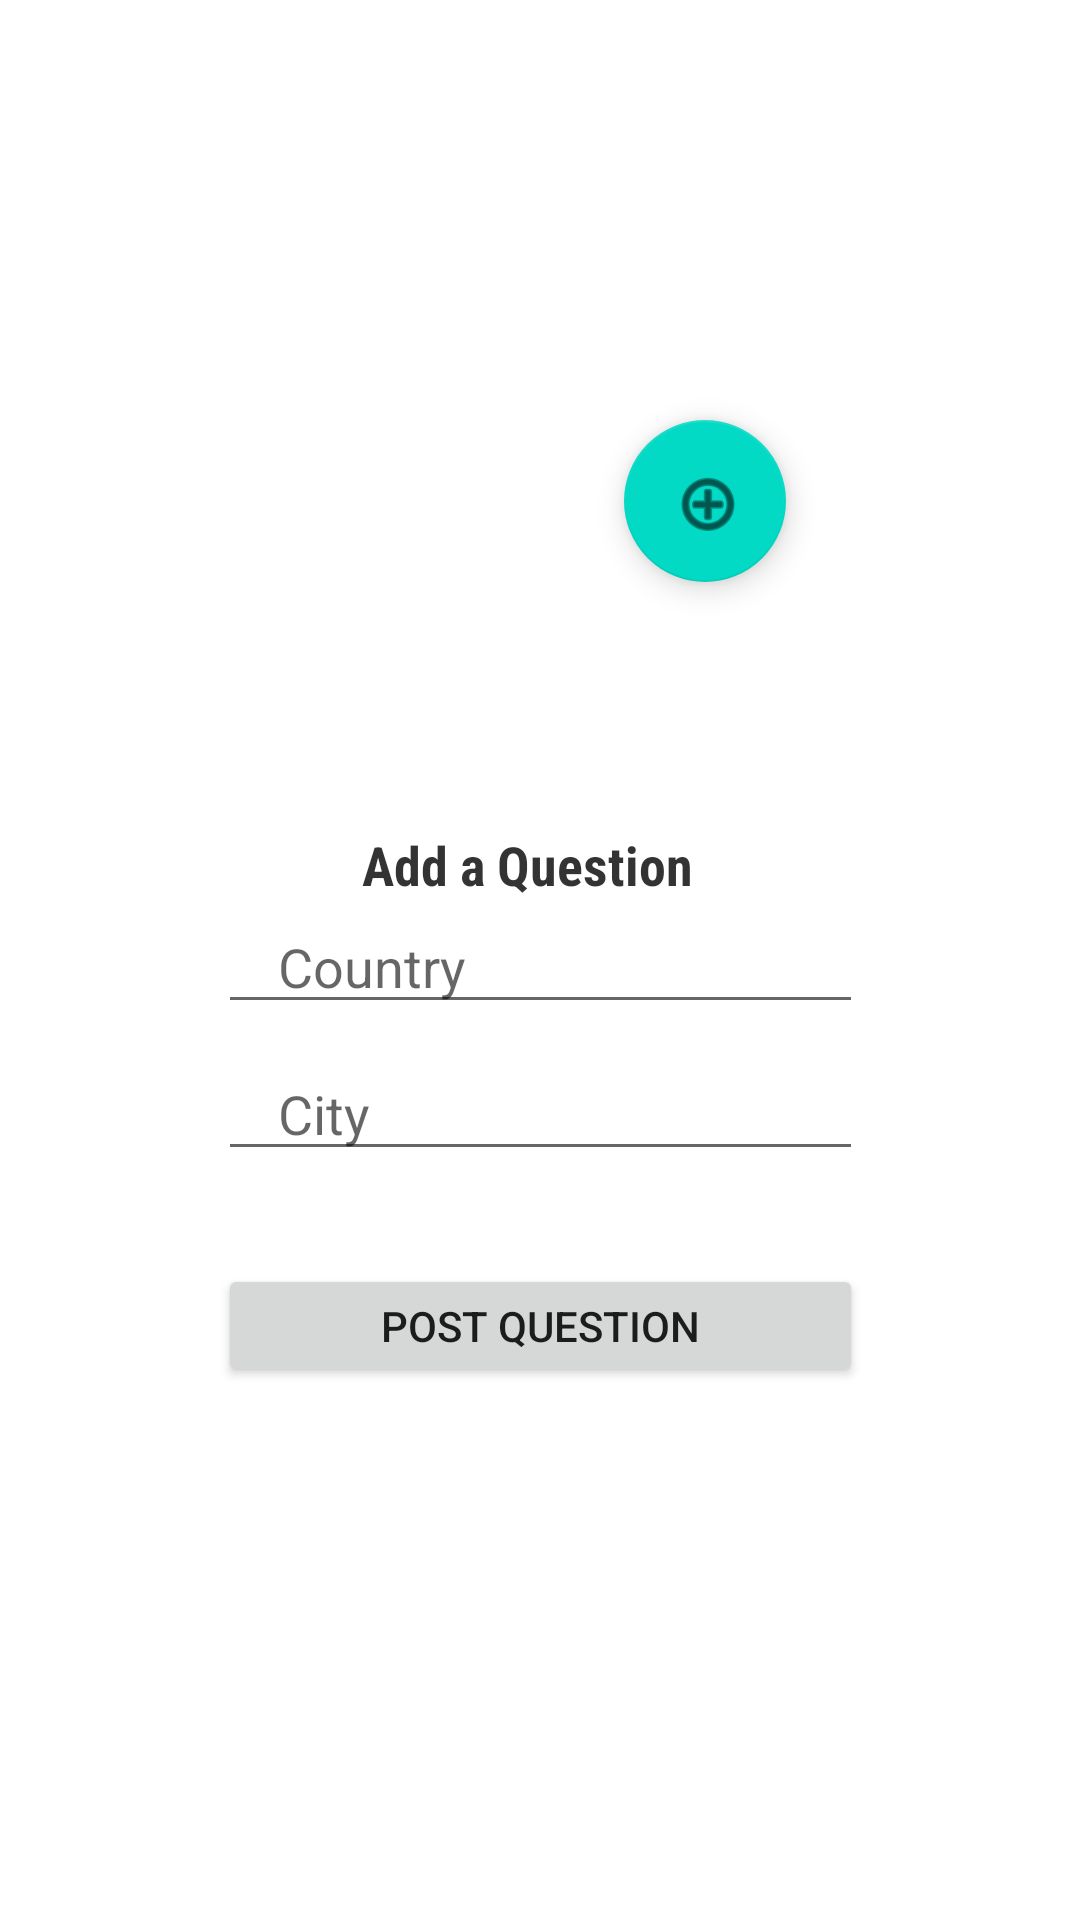

Named icons in this screenshot (1080×1920) and their bounding boxes, (x1, y1, x2, y2):
add: (624, 420, 786, 582)
